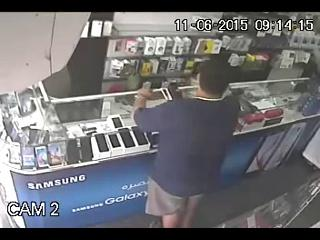Normal: (131, 54, 243, 226)
